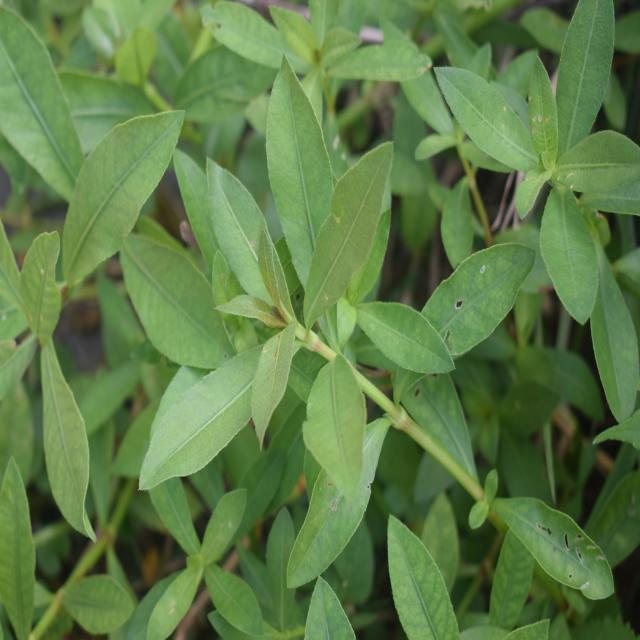Alligatorweed: (186, 86, 470, 542)
